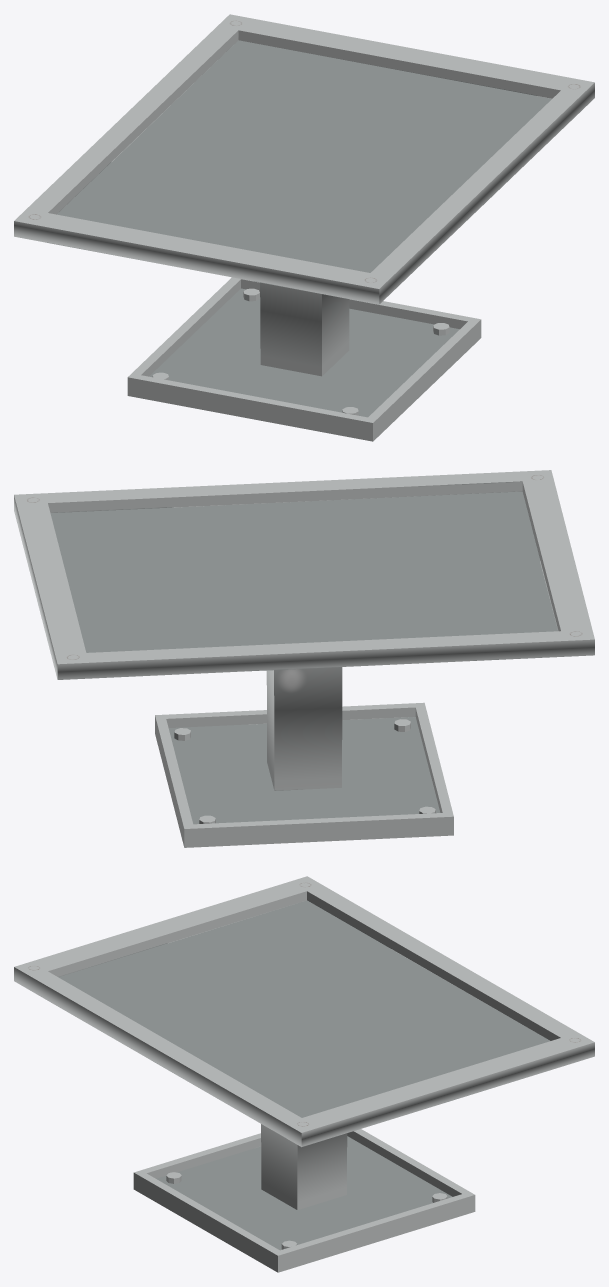
The model's file is Table.glb.
3 views of the same model, one above another, from view 1: azimuth 30°, elevation 25°; view 2: azimuth 150°, elevation 25°; view 3: azimuth 270°, elevation 25° (orthographic). The views are drawn at different scales.
Parts seen in each view (by area): view 1: CryoTable; view 2: CryoTable; view 3: CryoTable.
Boxes of the visible parts, <box> form: CryoTable: <box>14,14,594,441</box>; CryoTable: <box>14,470,594,847</box>; CryoTable: <box>14,876,594,1272</box>.
Bounding box in the file's own units: 2.04 × 0.7262 × 1.95.
Materials: 1 (1 with a texture image).
